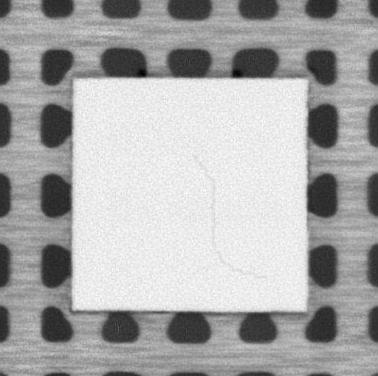DIE_CRACK: (190, 153, 257, 276)
